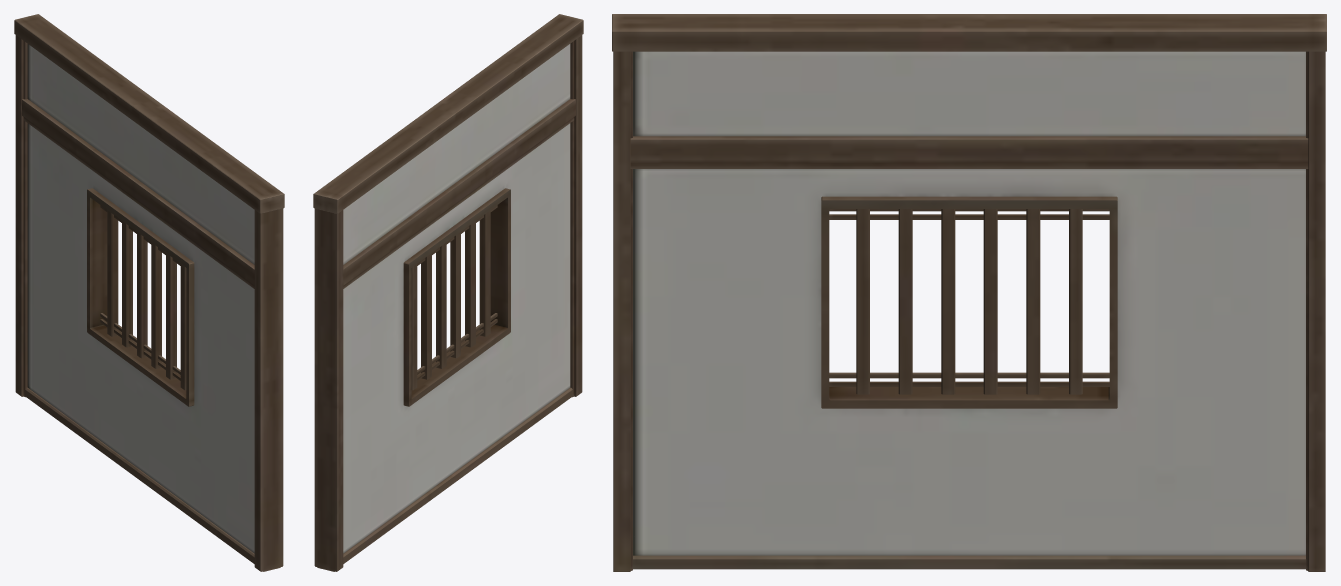
Rendered from Architecture_JapaneseStyle_WallWindow_c156e2.glb.
3 views of the same model, side by side, from view 1: azimuth 30°, elevation 25°; view 2: azimuth 150°, elevation 25°; view 3: azimuth 270°, elevation 25° (orthographic). The views are drawn at different scales.
Size of the model in its own units: 0.2304 by 3.37 by 4.02.
1 material, 1 textured.
